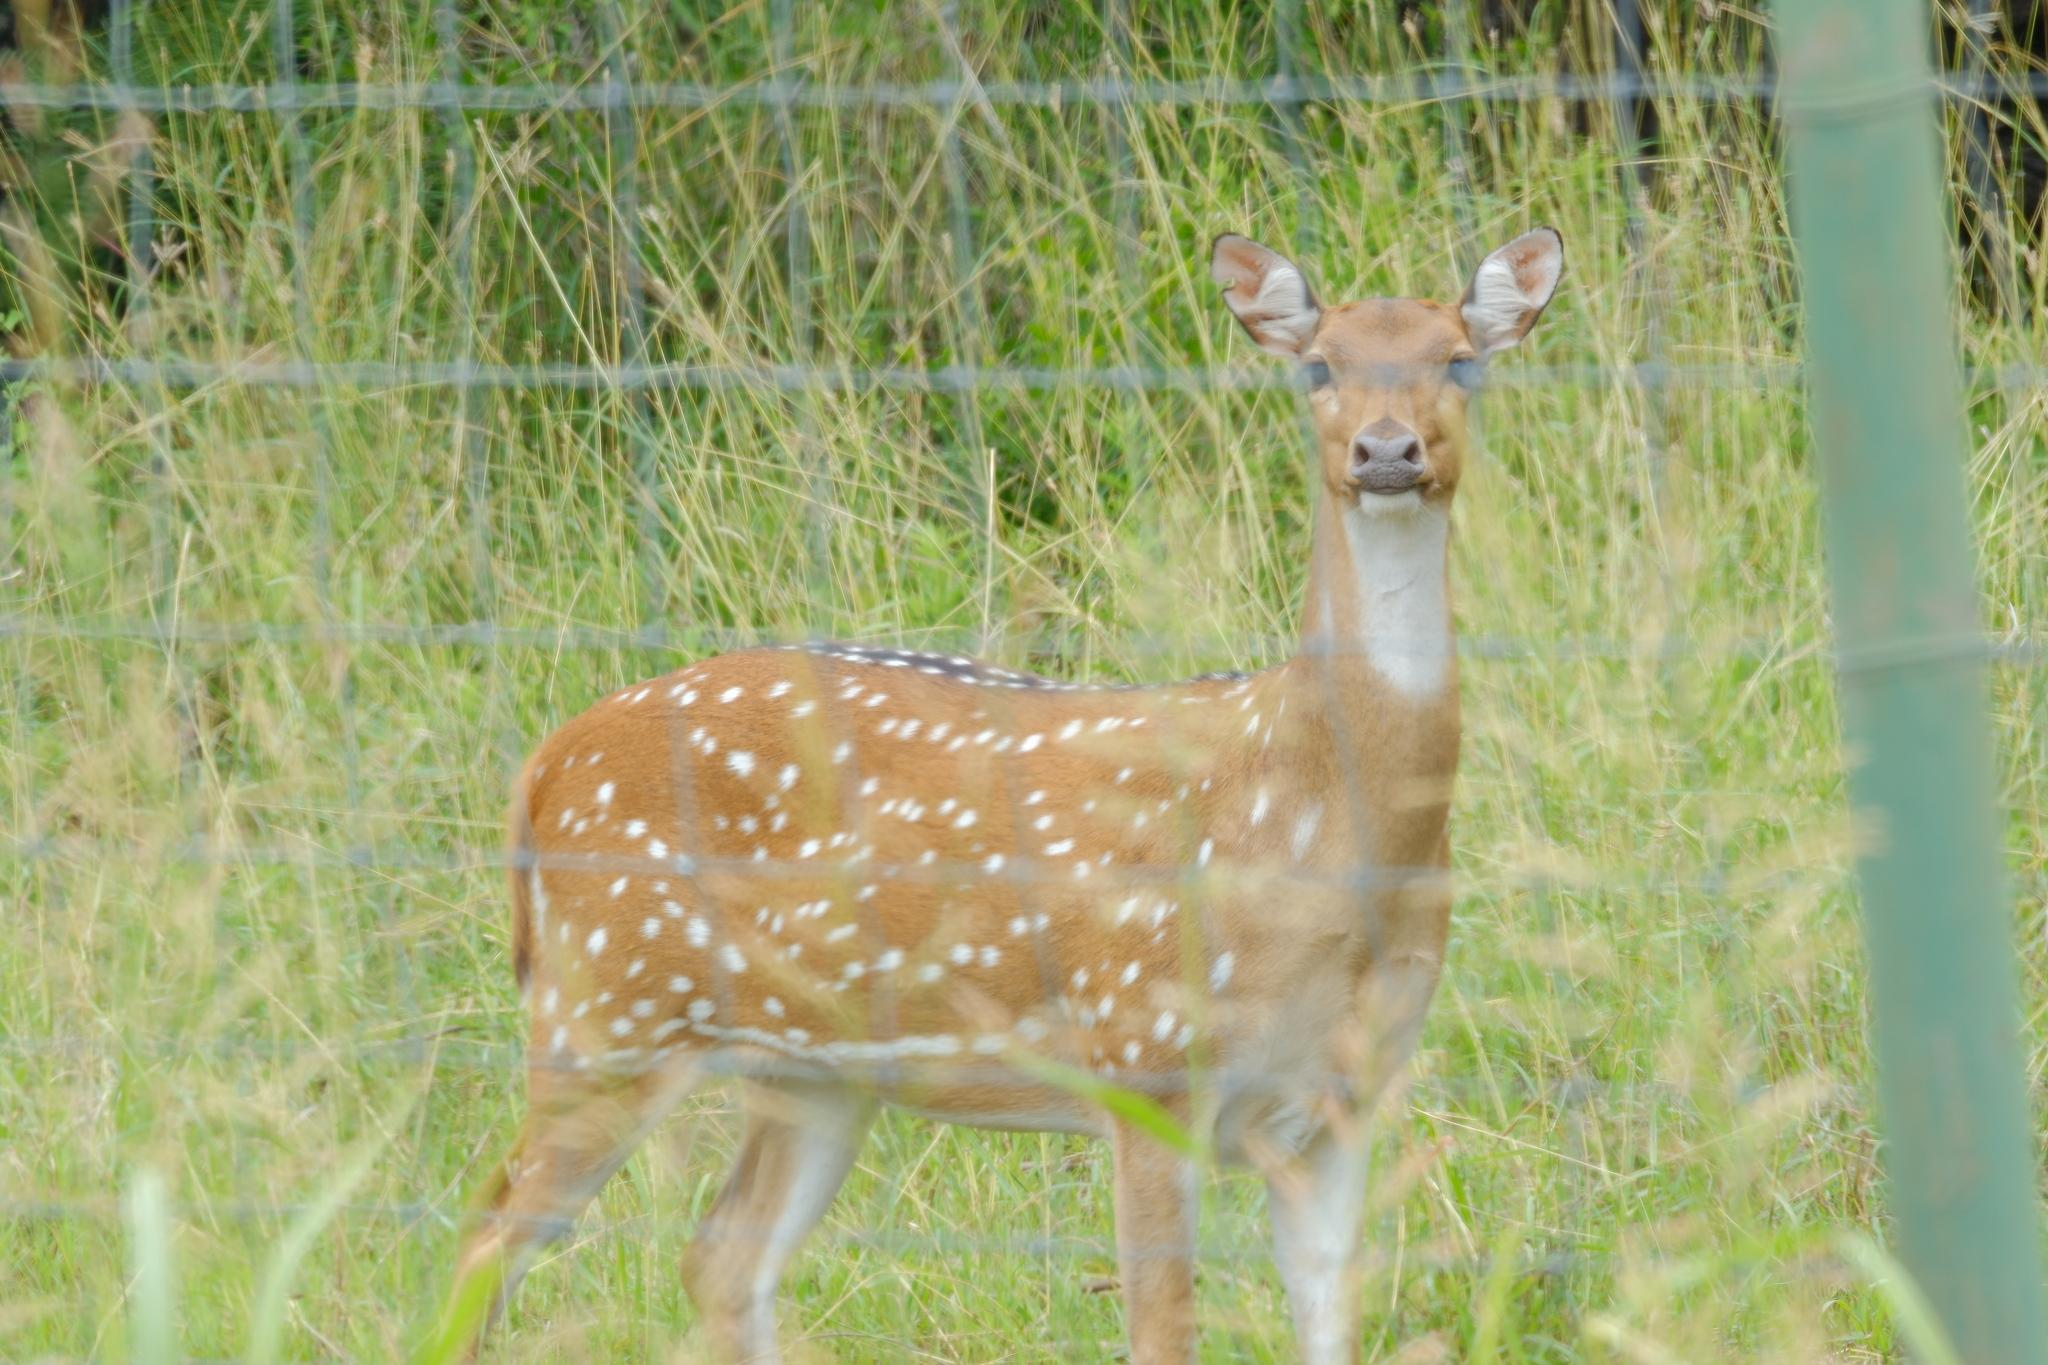Deer: (448, 227, 1562, 1363)
